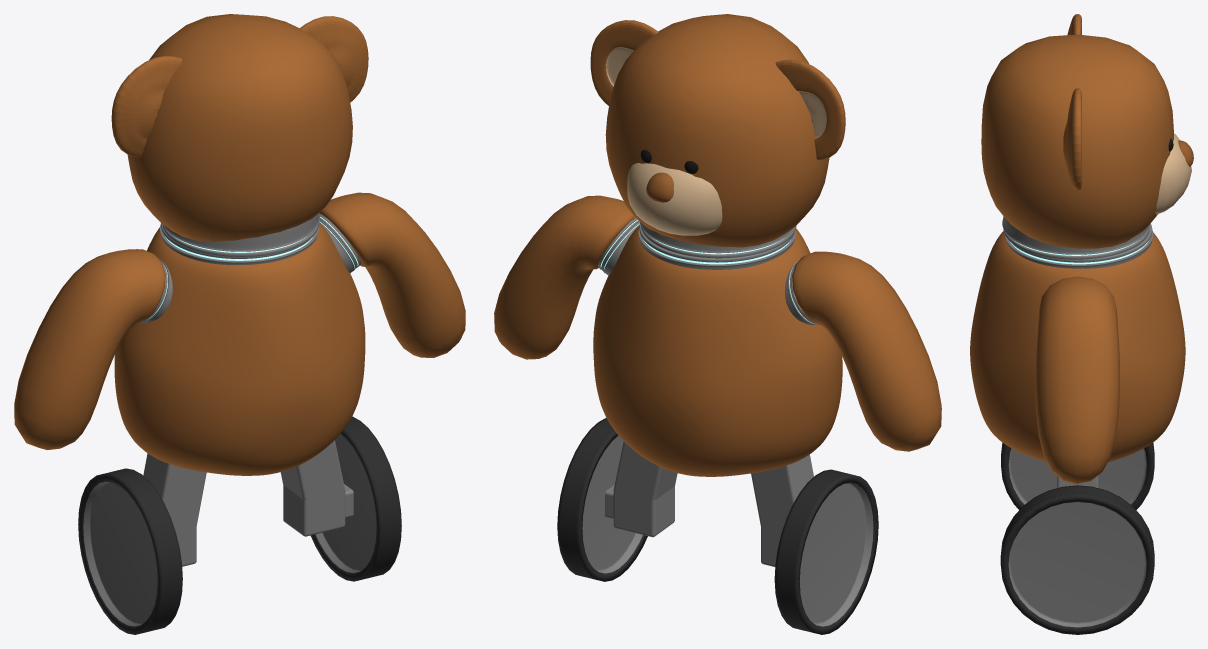
Rendered from teddybear.fbx.
The picture shows the model from 3 angles, left to right: view 1: azimuth 30°, elevation 25°; view 2: azimuth 150°, elevation 25°; view 3: azimuth 270°, elevation 25°; orthographic projection. The views are drawn at different scales.
Visible parts, largest first — view 1: Plane, Head, Arm, Wheel|Cylinder.001|Dupli|, Arm.001|Arm|Dupli|, Leg.001|Cylinder.001|Dupli|0.1, Ears, Leg.001|Leg|Dupli|, Leg, Bearing.002|Cylinder|Dupli|, Bearing.003|Cylinder|Dupli|; view 2: Plane, Head, Arm, Wheel|Cylinder.001|Dupli|, Arm.001|Arm|Dupli|, Leg.001|Cylinder.001|Dupli|0.1, Ears, Mouth, Leg.001|Leg|Dupli|, Leg, Bearing.003|Cylinder|Dupli|, Bearing.002|Cylinder|Dupli| (+1 smaller); view 3: Head, Plane, Leg.001|Cylinder.001|Dupli|0.1, Arm.001|Arm|Dupli|, Wheel|Cylinder.001|Dupli|, Bearing.002|Cylinder|Dupli|, Ears, Bearing.003|Cylinder|Dupli|, Mouth.
Part boxes in pixels (<box>): Plane: <box>114,223,365,475</box>; Head: <box>127,14,352,242</box>; Arm: <box>14,249,165,449</box>; Wheel|Cylinder.001|Dupli|: <box>78,468,182,634</box>; Arm.001|Arm|Dupli|: <box>319,192,465,357</box>; Leg.001|Cylinder.001|Dupli|0.1: <box>310,416,401,581</box>; Ears: <box>111,16,368,157</box>; Leg.001|Leg|Dupli|: <box>280,440,353,536</box>; Leg: <box>143,453,206,566</box>; Bearing.002|Cylinder|Dupli|: <box>162,213,319,256</box>; Bearing.003|Cylinder|Dupli|: <box>160,223,318,265</box>; Plane: <box>593,225,842,476</box>; Head: <box>605,14,829,247</box>; Arm: <box>792,251,941,451</box>; Wheel|Cylinder.001|Dupli|: <box>774,469,878,634</box>; Arm.001|Arm|Dupli|: <box>494,195,635,359</box>; Leg.001|Cylinder.001|Dupli|0.1: <box>557,417,647,581</box>; Ears: <box>590,20,845,160</box>; Mouth: <box>627,163,722,235</box>; Leg.001|Leg|Dupli|: <box>605,441,677,537</box>; Leg: <box>751,454,813,566</box>; Bearing.003|Cylinder|Dupli|: <box>638,223,795,269</box>; Bearing.002|Cylinder|Dupli|: <box>640,222,796,258</box>; Head: <box>981,34,1173,248</box>; Plane: <box>970,231,1185,462</box>; Leg.001|Cylinder.001|Dupli|0.1: <box>1000,485,1154,634</box>; Arm.001|Arm|Dupli|: <box>1035,276,1119,484</box>; Wheel|Cylinder.001|Dupli|: <box>1001,442,1154,510</box>; Bearing.002|Cylinder|Dupli|: <box>1002,216,1150,259</box>; Ears: <box>1063,14,1081,190</box>; Bearing.003|Cylinder|Dupli|: <box>1005,223,1153,268</box>; Mouth: <box>1155,133,1191,214</box>.
Size of the model in its own units: 166 by 206 by 78.12.
